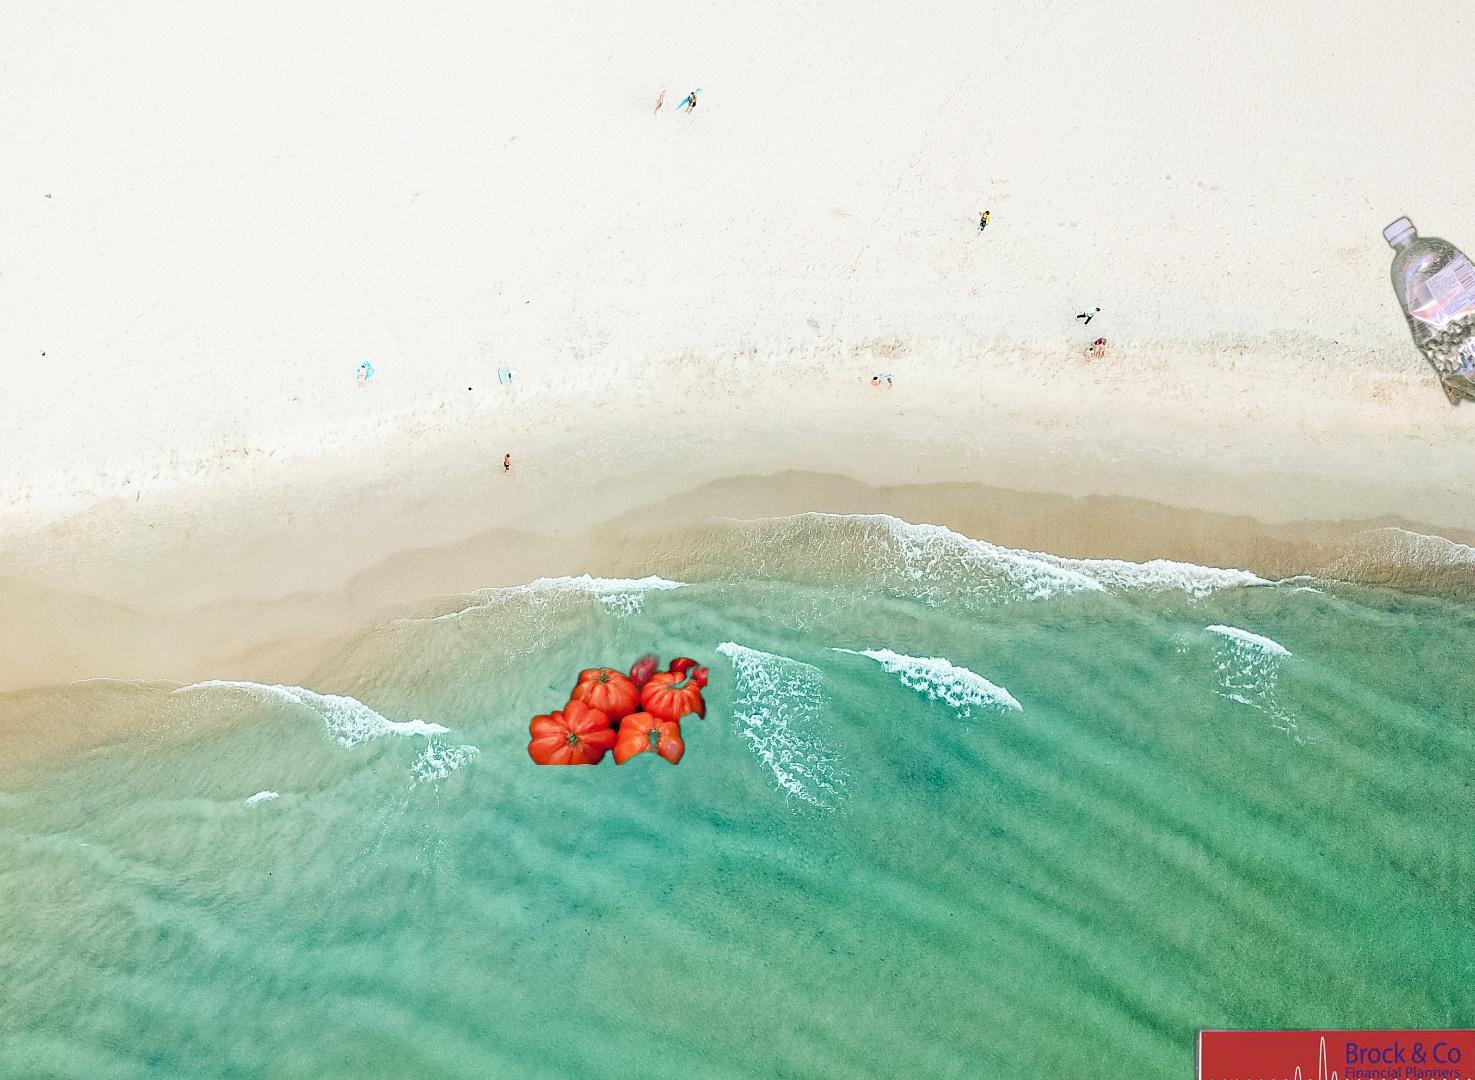biological: (524, 644, 716, 765)
penholder: (934, 963, 1475, 1080)
plastic-bottles: (1379, 208, 1475, 413)
